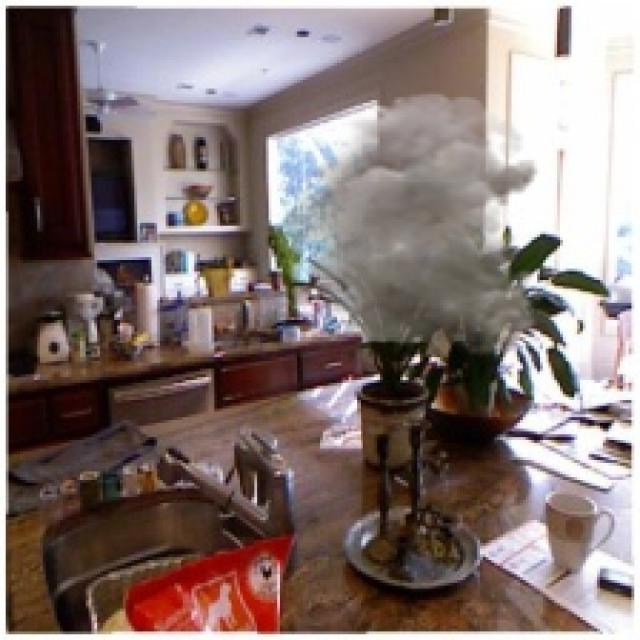smoke: (277, 92, 546, 357)
